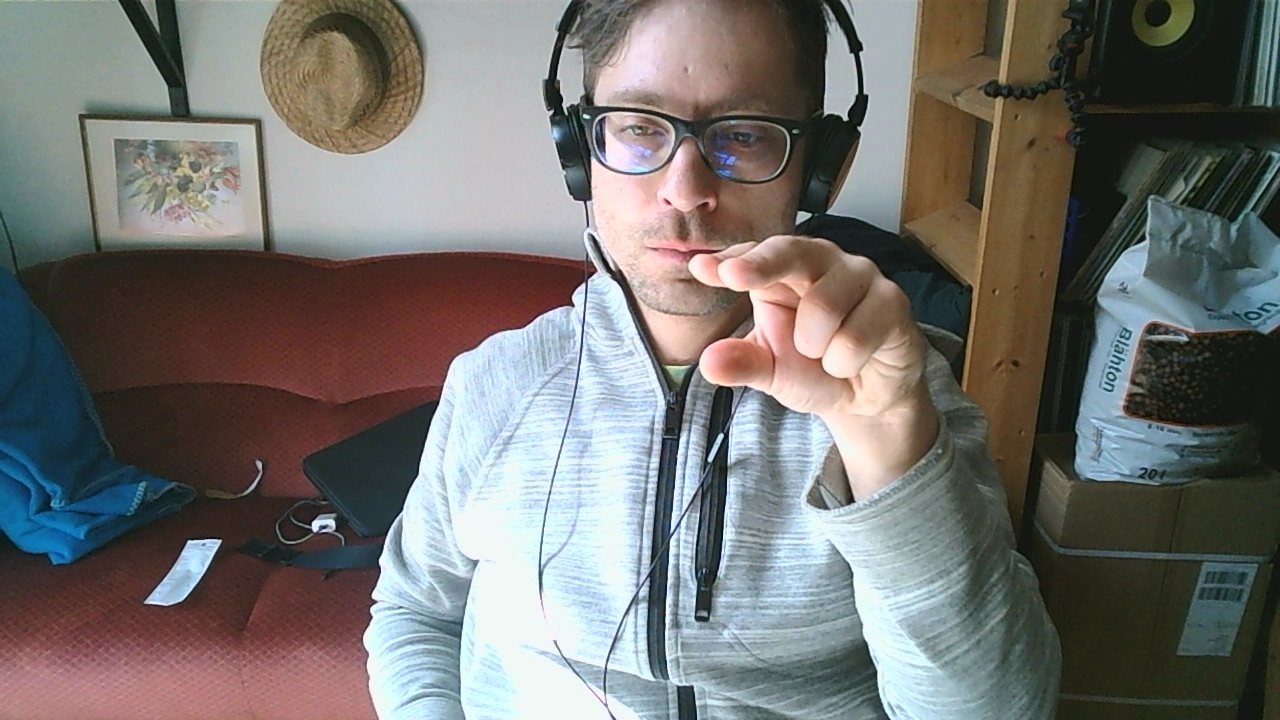no: (685, 234, 923, 412)
